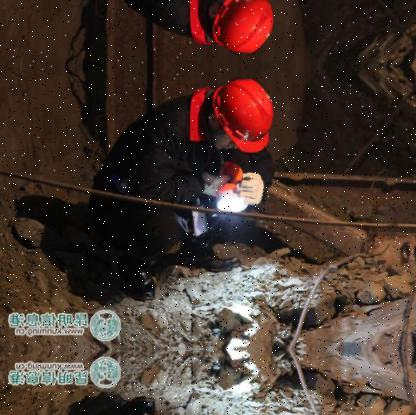helmet: (202, 74, 281, 151), (202, 0, 282, 57)
